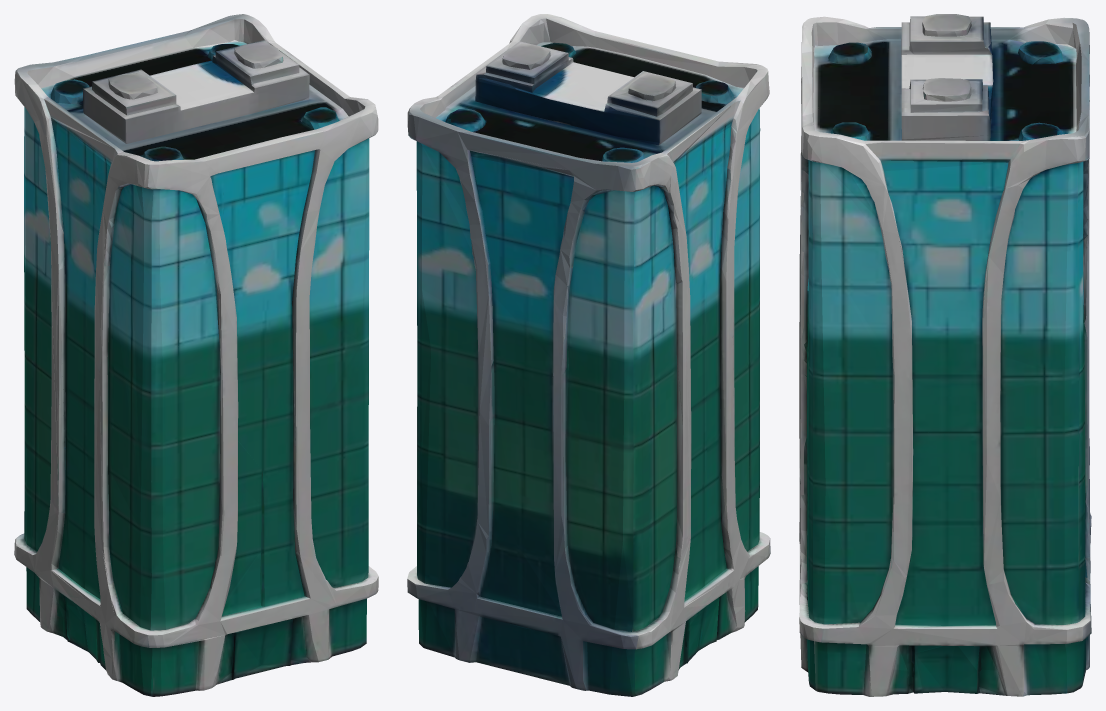
Rendered from b-glass.glb.
3 renders of one model, left to right at view 1: azimuth 30°, elevation 25°; view 2: azimuth 150°, elevation 25°; view 3: azimuth 270°, elevation 25°, orthographic. The views are drawn at different scales.
Visible parts, largest first — view 1: geometry_0; view 2: geometry_0; view 3: geometry_0.
Part boxes in pixels (x1,y1,x2,y2): geometry_0: [14, 14, 378, 696]; geometry_0: [407, 14, 770, 696]; geometry_0: [799, 14, 1091, 696].
Bounding box in the file's own units: 0.4572 × 1 × 0.455.
Materials: 1 (1 with a texture image).
